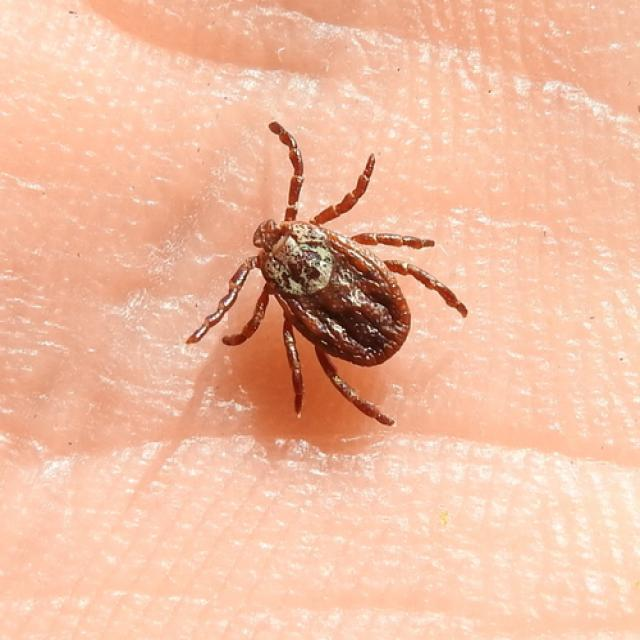Dermacentor Reticulatus-F: (187, 123, 470, 427)
